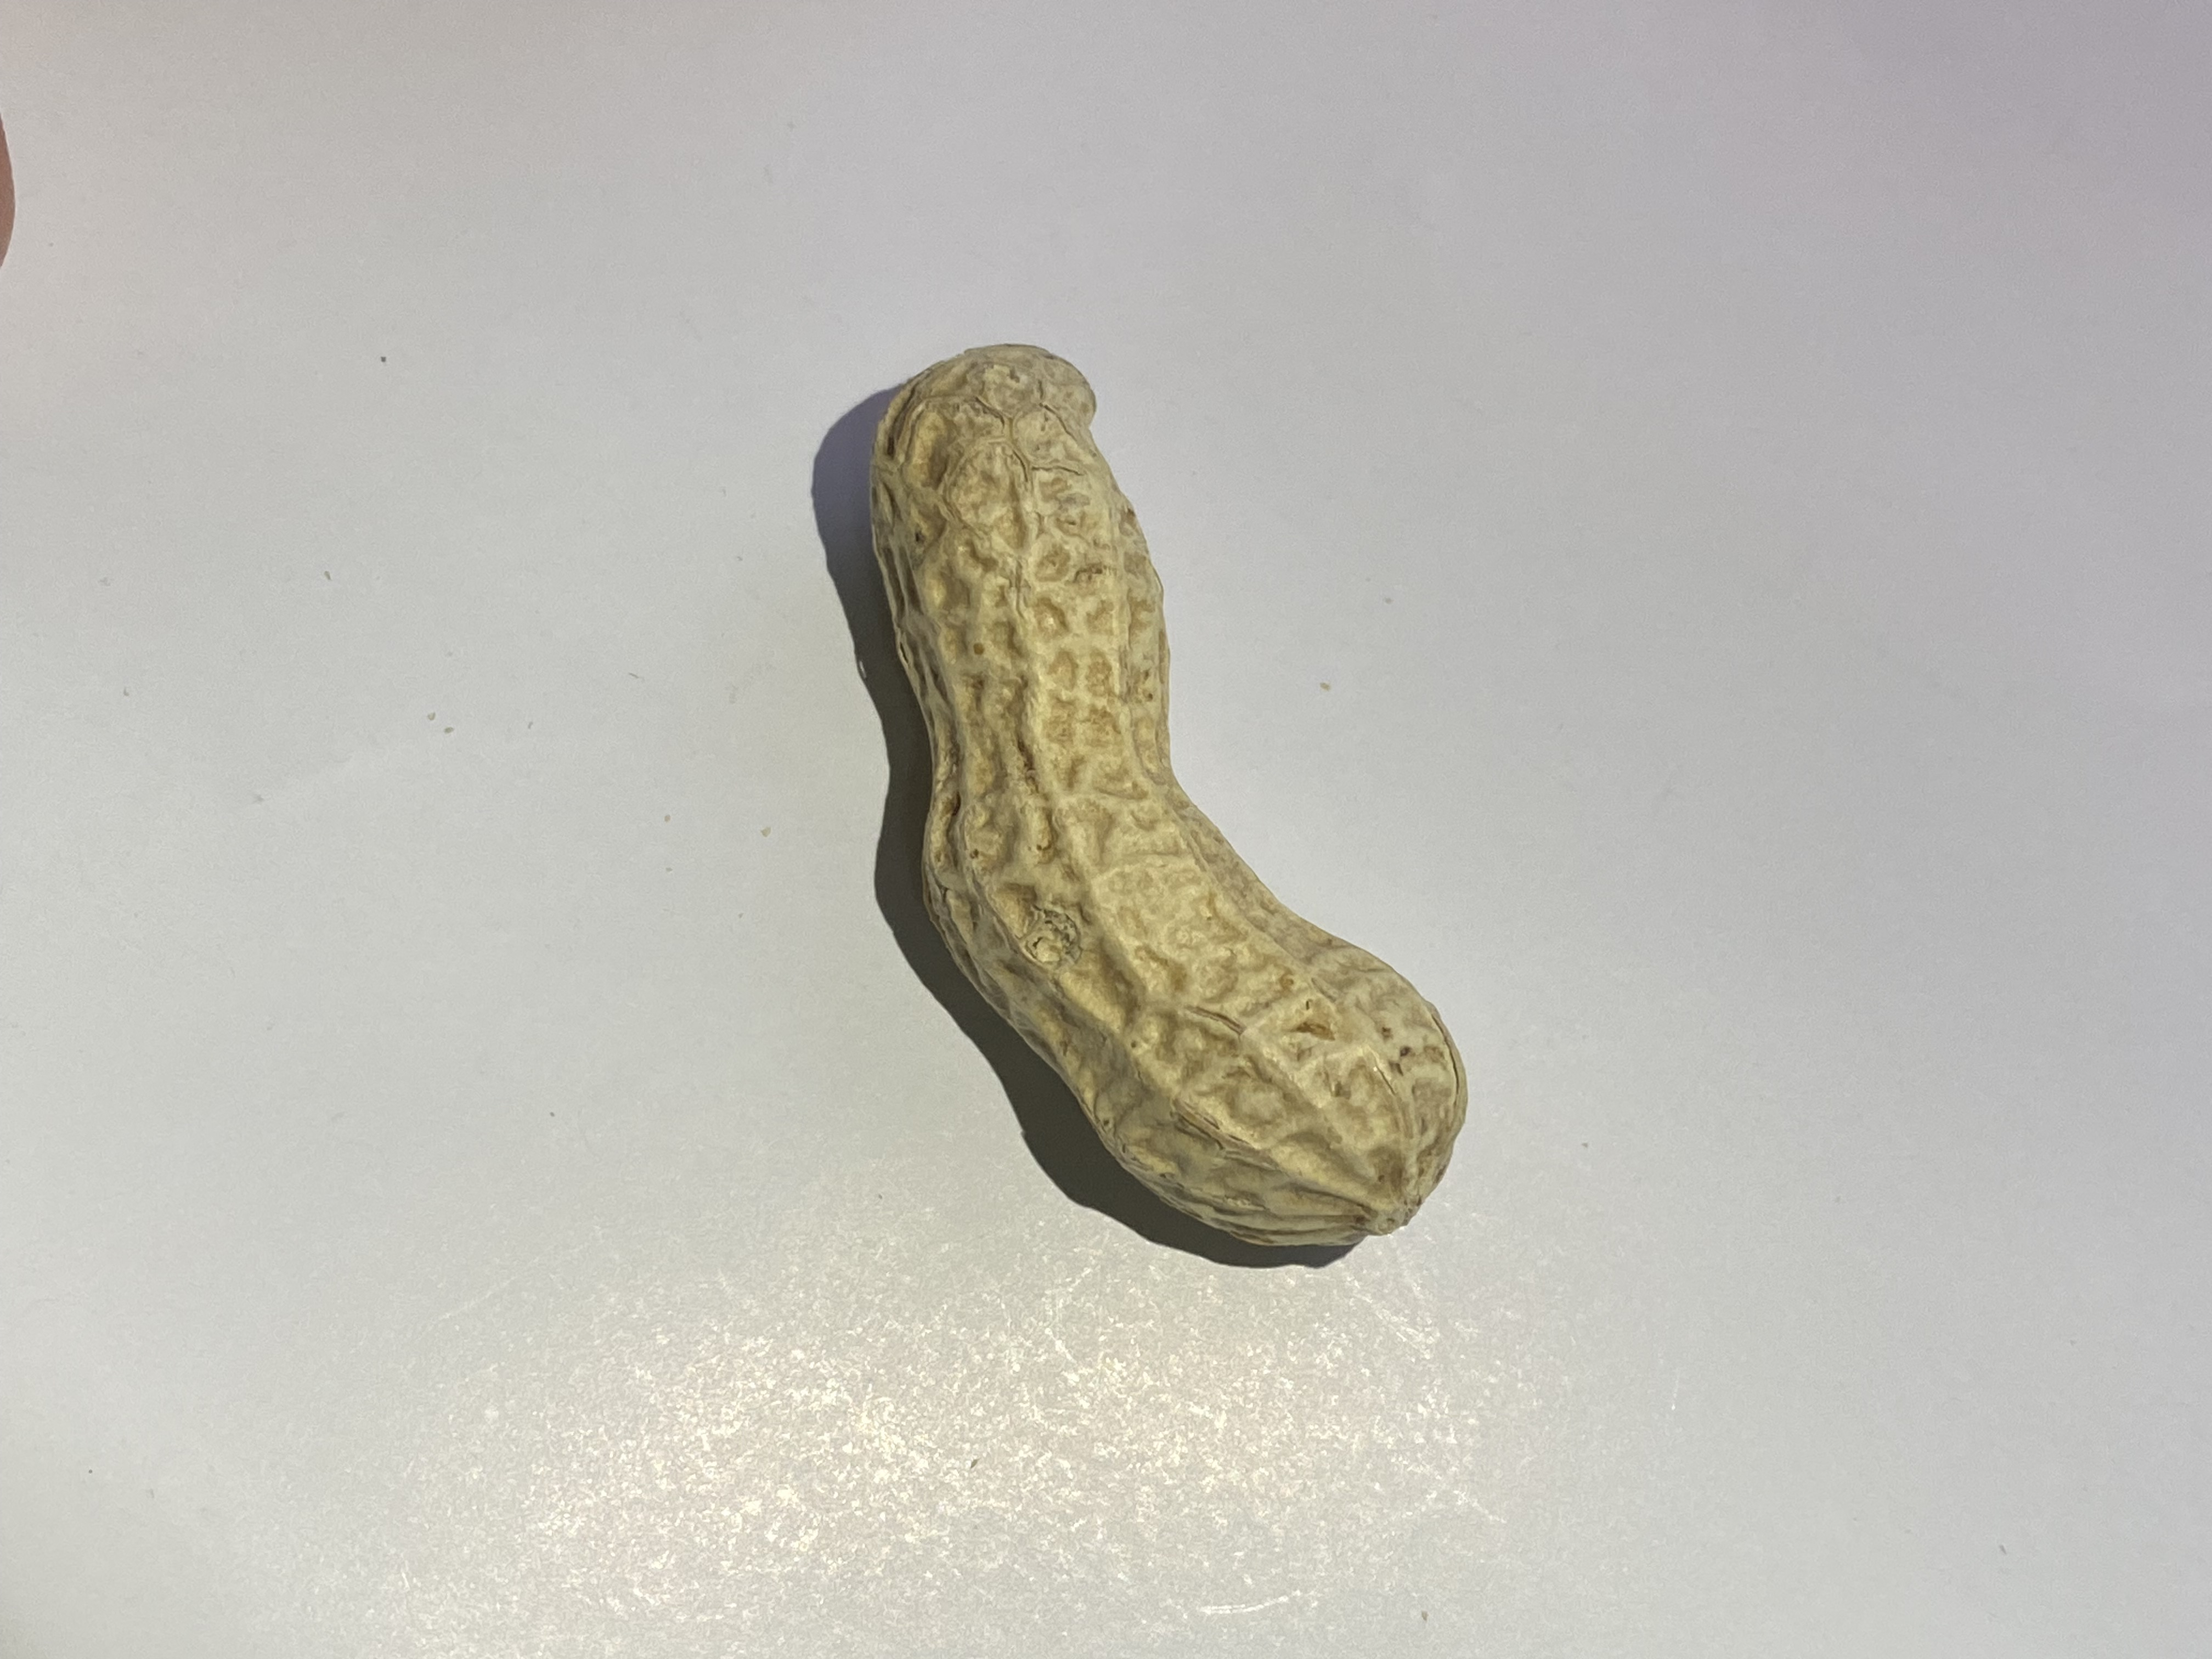kacang3: (841, 308, 1486, 1297)
